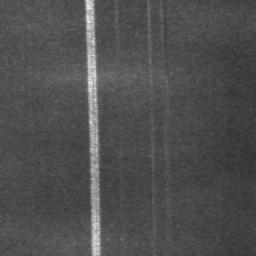Bright scratch: (85, 0, 101, 256)
